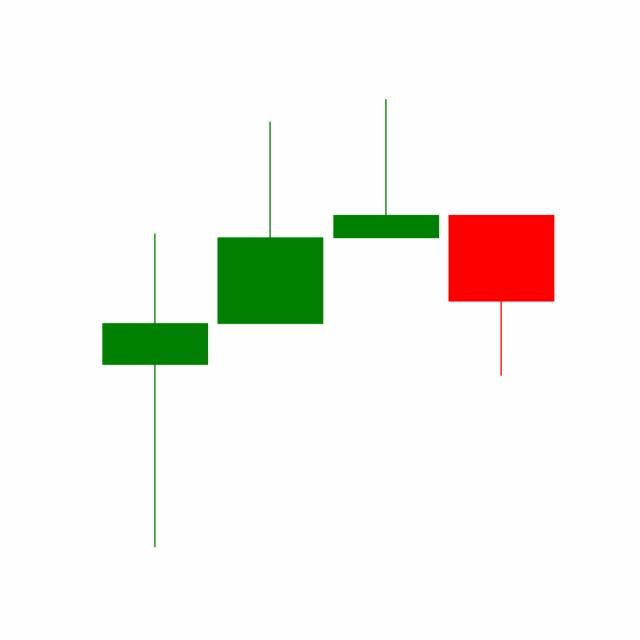Gravestone Doji: (328, 98, 444, 240)
